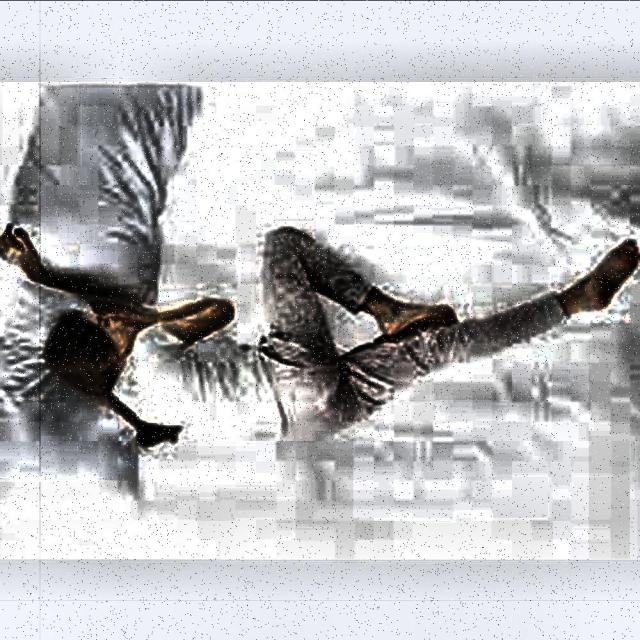Not_Supine: (0, 224, 640, 446)
